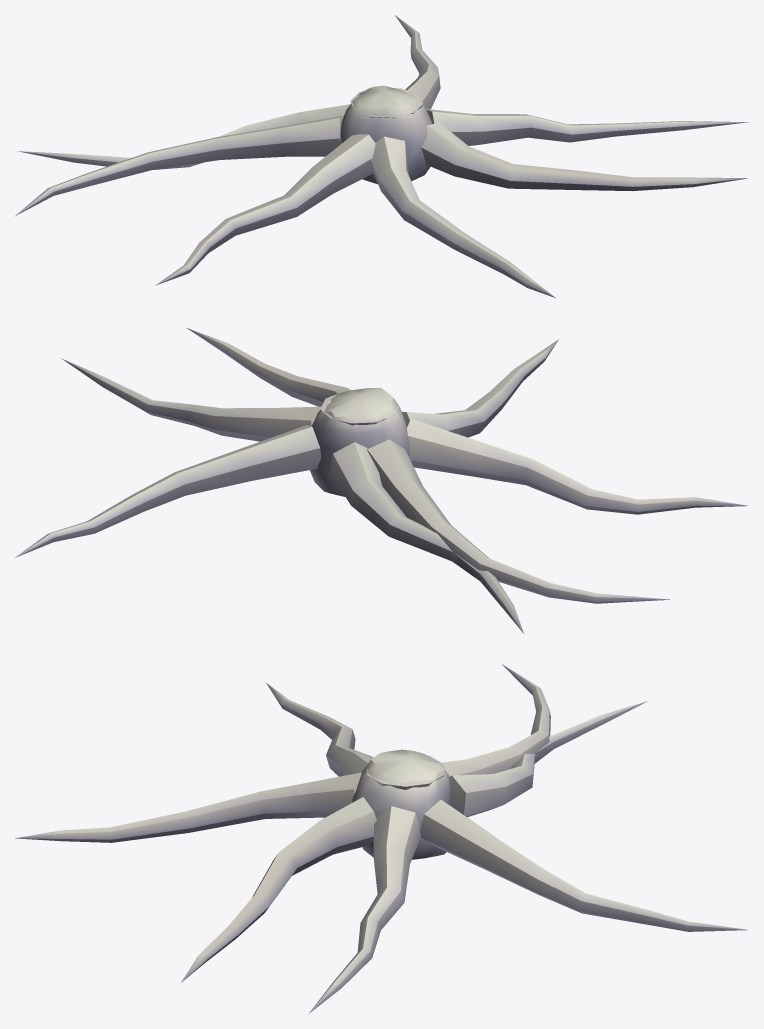
File: roots.glb
3 renders of one model, top to bottom at view 1: azimuth 30°, elevation 25°; view 2: azimuth 150°, elevation 25°; view 3: azimuth 270°, elevation 25°, orthographic. The views are drawn at different scales.
Parts seen in each view (by area): view 1: roots; view 2: roots; view 3: roots.
Part boxes in pixels (box(x1,y1,x2,y2)): roots: box(14, 15, 749, 297); roots: box(15, 327, 748, 633); roots: box(15, 664, 747, 1014).
Bounding box in the file's own units: 5.31 × 0.6717 × 4.7.
